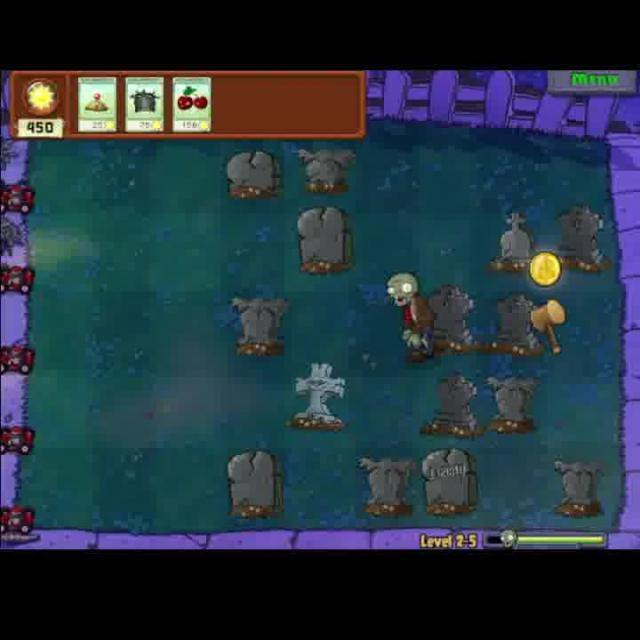zombies: (383, 261, 443, 370)
